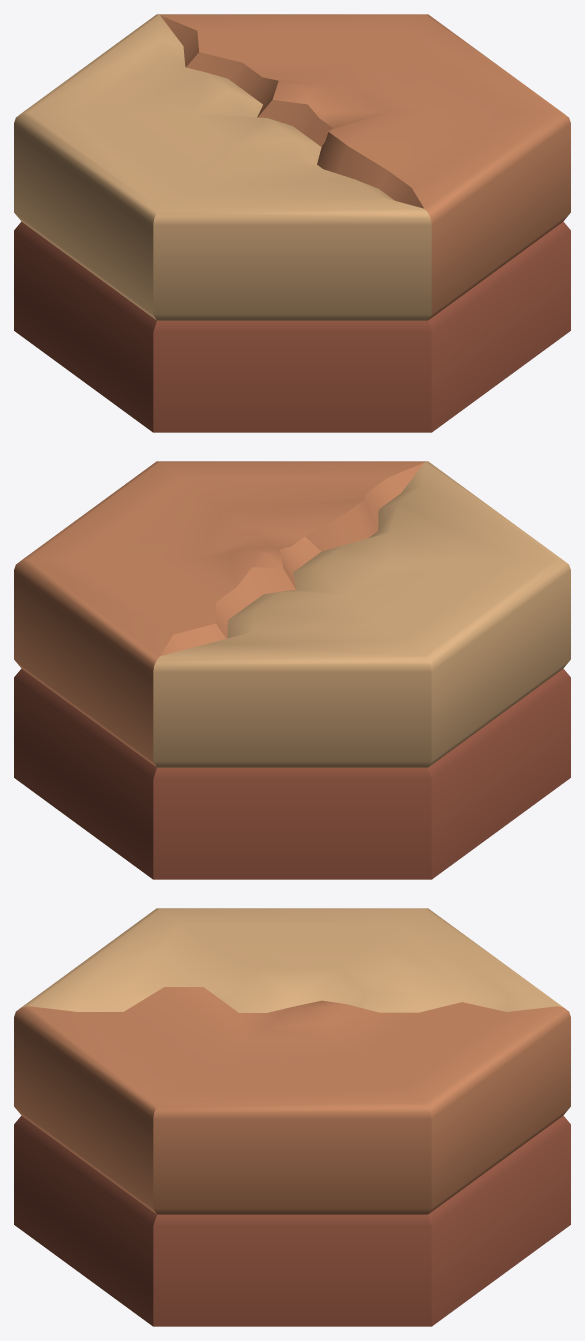
File: hex_sand_transitionB.glb
The picture shows the model from 3 angles, top to bottom: view 1: azimuth 30°, elevation 25°; view 2: azimuth 150°, elevation 25°; view 3: azimuth 270°, elevation 25°; orthographic projection.
Visible parts, largest first — view 1: hex_sand_transitionB; view 2: hex_sand_transitionB; view 3: hex_sand_transitionB.
Boxes of the visible parts, x1,y1,x2,y2 form: hex_sand_transitionB: (14, 14, 570, 432); hex_sand_transitionB: (14, 461, 570, 879); hex_sand_transitionB: (14, 908, 570, 1326).
Bounding box in the file's own units: 3.82 × 2.04 × 4.41.
